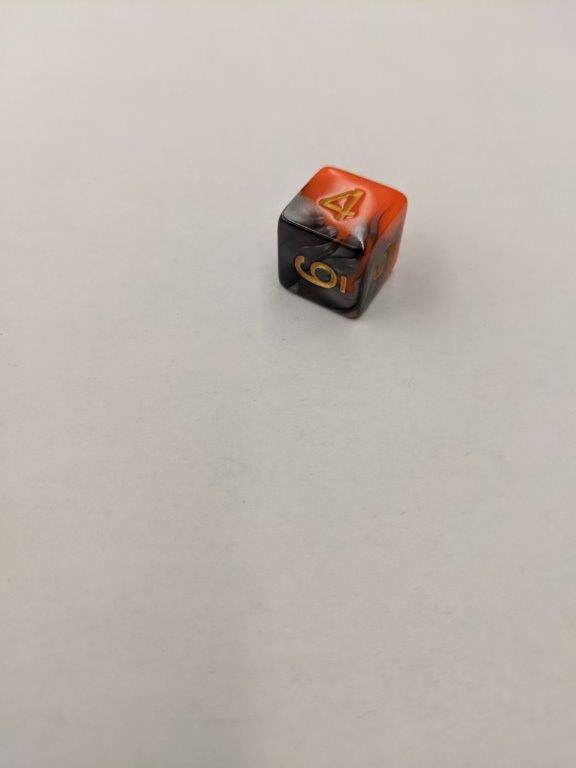d6-4: (277, 167, 411, 320)
